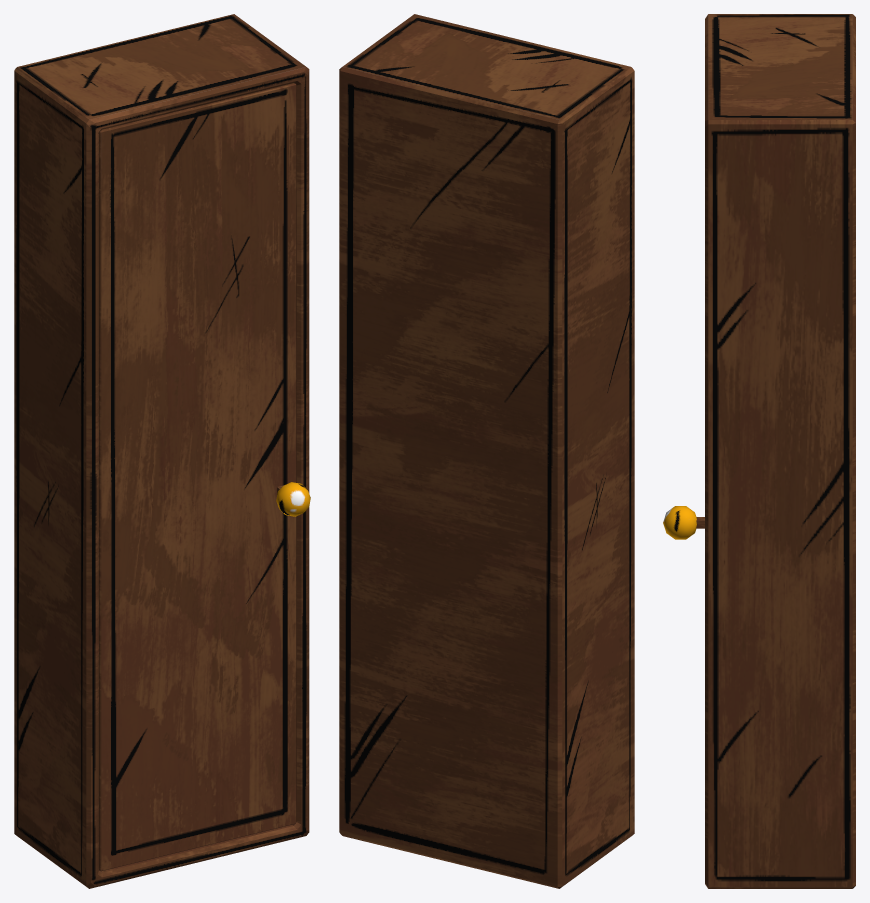
The model's file is Shelf_A.glb.
3 renders of one model, left to right at view 1: azimuth 30°, elevation 25°; view 2: azimuth 150°, elevation 25°; view 3: azimuth 270°, elevation 25°, orthographic.
Visible parts, largest first — view 1: Shelf A .002, Shelf A .001; view 2: Shelf A .001; view 3: Shelf A .001, Shelf A .002.
Boxes of the visible parts, box(x1,y1,x2,y2) form: Shelf A .002: box(99, 83, 310, 871); Shelf A .001: box(14, 14, 309, 888); Shelf A .001: box(339, 14, 634, 888); Shelf A .001: box(705, 14, 855, 888); Shelf A .002: box(663, 506, 704, 539).
Bounding box in the file's own units: 3.26 × 10.76 × 2.45.
1 material, 1 textured.
